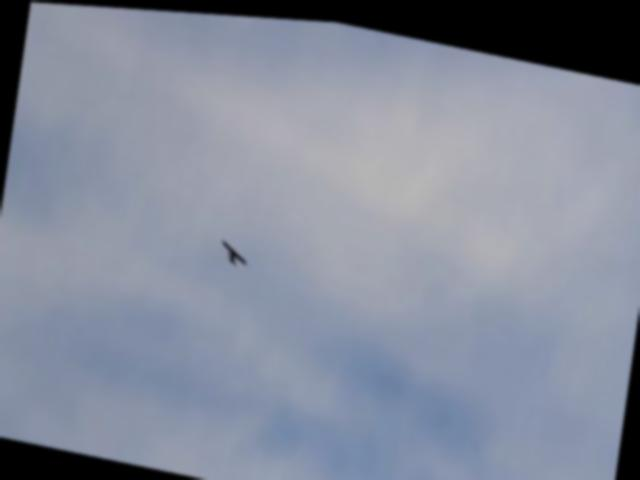uav: (216, 233, 256, 269)
